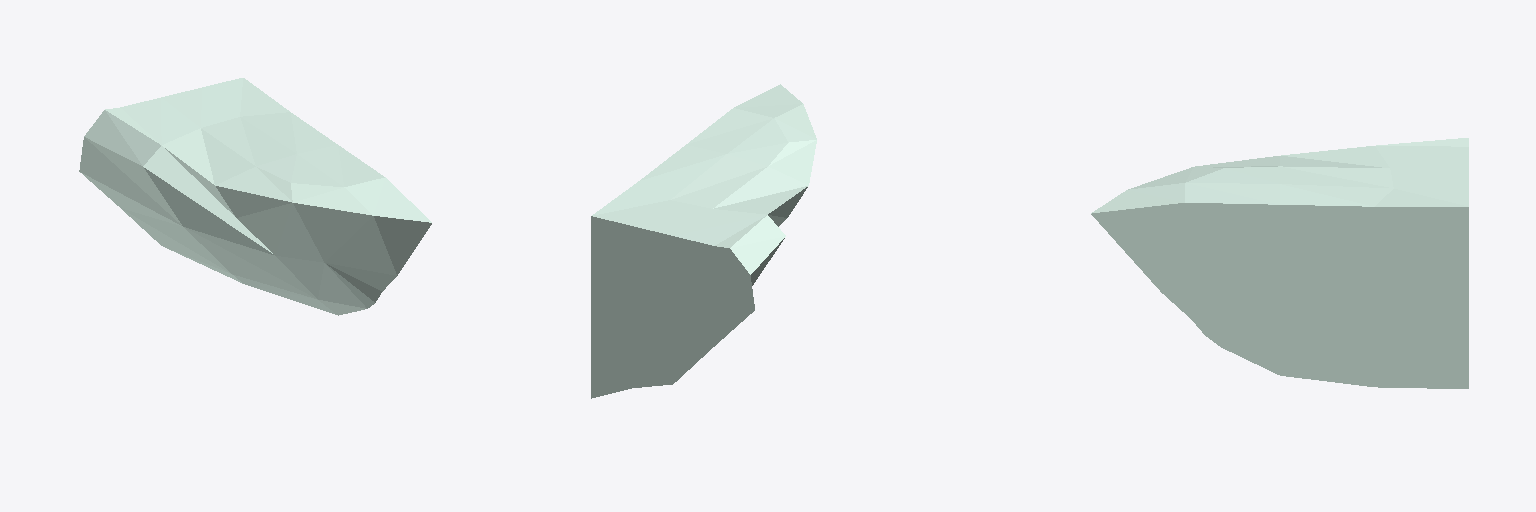
The model's file is frontRight.obj.
3 views of the same model, side by side, from view 1: azimuth 30°, elevation 25°; view 2: azimuth 150°, elevation 25°; view 3: azimuth 270°, elevation 25° (orthographic).
Parts seen in each view (by area): view 1: Cube_Front_L_Cube.000; view 2: Cube_Front_L_Cube.000; view 3: Cube_Front_L_Cube.000.
Part boxes in pixels (x1,y1,x2,y2): Cube_Front_L_Cube.000: (79,78,431,315); Cube_Front_L_Cube.000: (591,84,816,398); Cube_Front_L_Cube.000: (1091,138,1468,388).
Size of the model in its own units: 1 by 1.09 by 2.